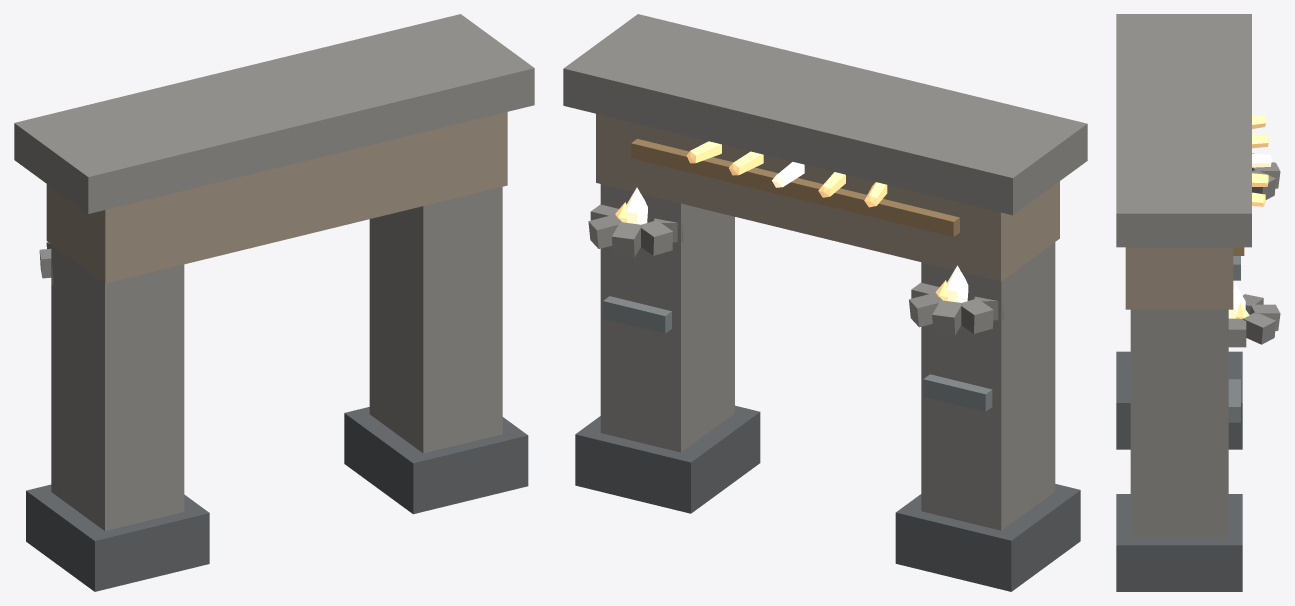
The model's file is decor-geode-hearth-mantel.glb.
3 renders of one model, left to right at view 1: azimuth 30°, elevation 25°; view 2: azimuth 150°, elevation 25°; view 3: azimuth 270°, elevation 25°, orthographic. The views are drawn at different scales.
Parts seen in each view (by area): view 1: mantel-shelf, lintel, pillar--0.72, pillar-0.72, pillar-foot-0.72, pillar-foot--0.72; view 2: mantel-shelf, pillar--0.72, pillar-0.72, lintel, pillar-foot--0.72, pillar-foot-0.72, lintel-band, pillar-band--0.72, pillar-band-0.72, geode-shell-UnityEngine.Vector3-4, geode-shell-UnityEngine.Vector3-4.001, geode-shell-UnityEngine.Vector3-5 (+3 smaller); view 3: mantel-shelf, pillar-0.72, pillar-foot-0.72, lintel, pillar-foot--0.72, geode-shell-UnityEngine.Vector3-6.001, geode-shell-UnityEngine.Vector3-0.001, pillar-band-0.72, geode-shell-UnityEngine.Vector3-5.001, geode-shell-UnityEngine.Vector3-6, geode-heart-UnityEngine.Vector3.001, geode-shell-UnityEngine.Vector3-5 (+1 smaller).
Boxes of the visible parts, x1=… form: mantel-shelf: x1=14, y1=14, x2=534, y2=213; lintel: x1=46, y1=112, x2=507, y2=283; pillar--0.72: x1=51, y1=244, x2=184, y2=530; pillar-0.72: x1=369, y1=187, x2=502, y2=453; pillar-foot-0.72: x1=344, y1=407, x2=528, y2=514; pillar-foot--0.72: x1=26, y1=484, x2=209, y2=591; mantel-shelf: x1=563, y1=14, x2=1087, y2=215; pillar--0.72: x1=921, y1=242, x2=1055, y2=530; pillar-0.72: x1=600, y1=184, x2=734, y2=452; lintel: x1=596, y1=114, x2=1059, y2=281; pillar-foot--0.72: x1=895, y1=484, x2=1080, y2=591; pillar-foot-0.72: x1=575, y1=405, x2=760, y2=513; lintel-band: x1=631, y1=139, x2=959, y2=236; pillar-band--0.72: x1=923, y1=374, x2=992, y2=411; pillar-band-0.72: x1=603, y1=296, x2=671, y2=333; geode-shell-UnityEngine.Vector3-4: x1=961, y1=298, x2=993, y2=333; geode-shell-UnityEngine.Vector3-4.001: x1=641, y1=220, x2=672, y2=255; geode-shell-UnityEngine.Vector3-5: x1=932, y1=300, x2=962, y2=335; mantel-shelf: x1=1116, y1=14, x2=1251, y2=247; pillar-0.72: x1=1130, y1=309, x2=1228, y2=537; pillar-foot-0.72: x1=1116, y1=494, x2=1242, y2=591; lintel: x1=1125, y1=247, x2=1233, y2=309; pillar-foot--0.72: x1=1116, y1=351, x2=1242, y2=449; geode-shell-UnityEngine.Vector3-6.001: x1=1242, y1=312, x2=1275, y2=344; geode-shell-UnityEngine.Vector3-0.001: x1=1225, y1=318, x2=1246, y2=347; pillar-band-0.72: x1=1228, y1=379, x2=1240, y2=422; geode-shell-UnityEngine.Vector3-5.001: x1=1250, y1=304, x2=1280, y2=330; geode-shell-UnityEngine.Vector3-6: x1=1252, y1=170, x2=1275, y2=199; geode-heart-UnityEngine.Vector3.001: x1=1228, y1=284, x2=1245, y2=318; geode-shell-UnityEngine.Vector3-5: x1=1252, y1=162, x2=1280, y2=188.
Size of the model in its own units: 2.02 by 1.8 by 0.7017.
